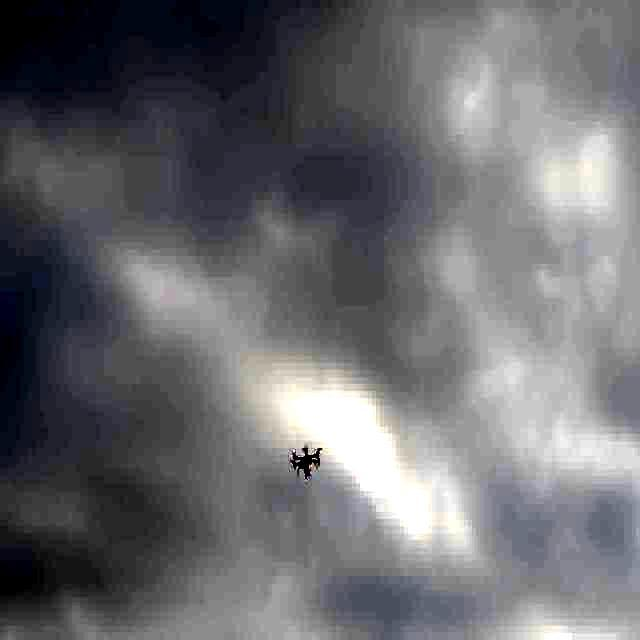drone: (290, 441, 322, 478)
